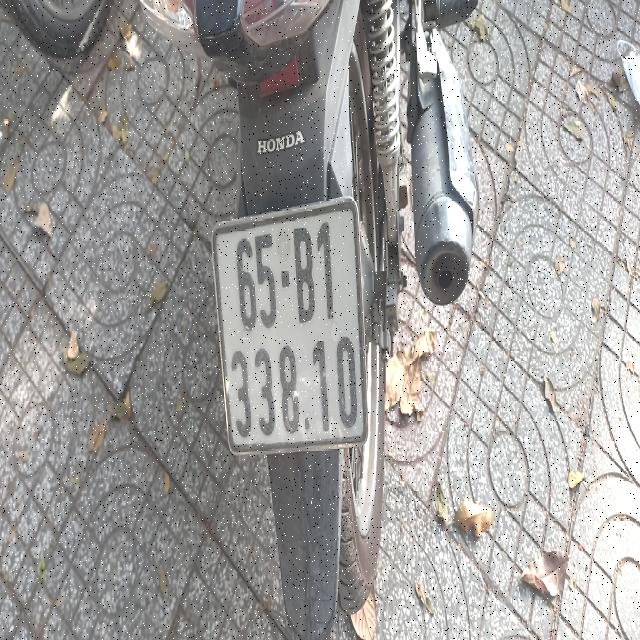0: (338, 336, 357, 434)
1: (317, 221, 336, 320), (312, 339, 329, 434)
3: (254, 348, 276, 438), (231, 350, 251, 440)
5: (255, 229, 276, 329)
6: (236, 238, 257, 331)
8: (280, 343, 298, 434)
B: (292, 228, 316, 323)
